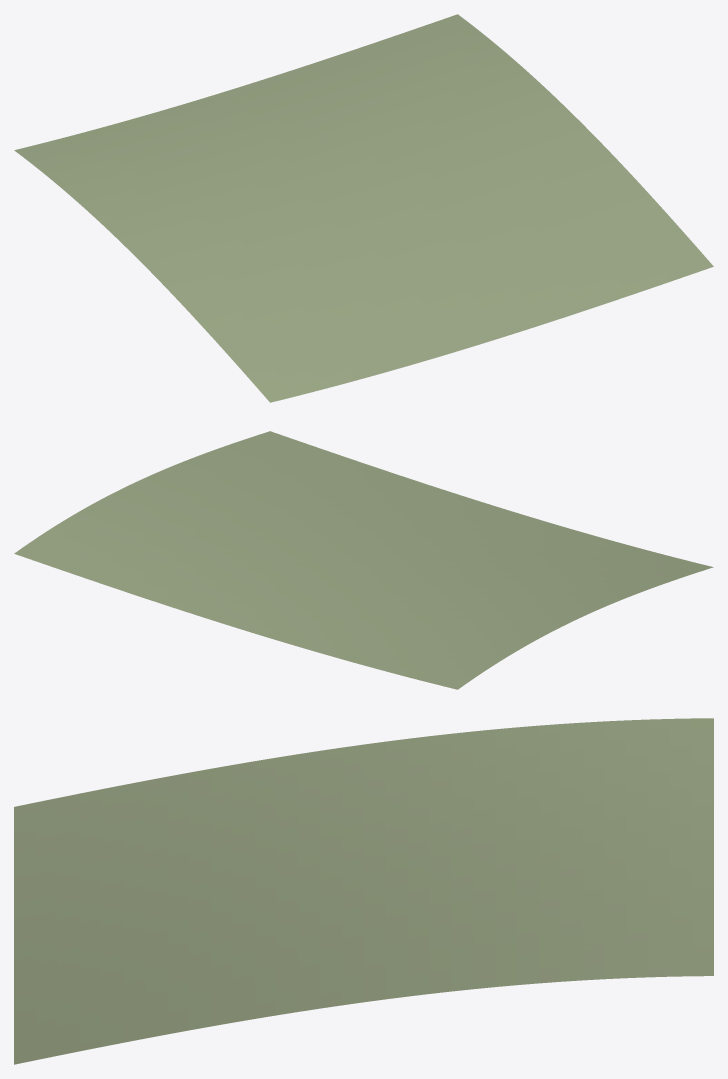
File: valley-0-1.glb
3 renders of one model, top to bottom at view 1: azimuth 30°, elevation 25°; view 2: azimuth 150°, elevation 25°; view 3: azimuth 270°, elevation 25°, orthographic. The views are drawn at different scales.
Parts seen in each view (by area): view 1: valley-0-1; view 2: valley-0-1; view 3: valley-0-1.
Part boxes in pixels (x1,y1,x2,y2): valley-0-1: [14, 14, 713, 402]; valley-0-1: [14, 431, 713, 689]; valley-0-1: [14, 718, 713, 1064].
Size of the model in its own units: 256 by 51.14 by 256.
